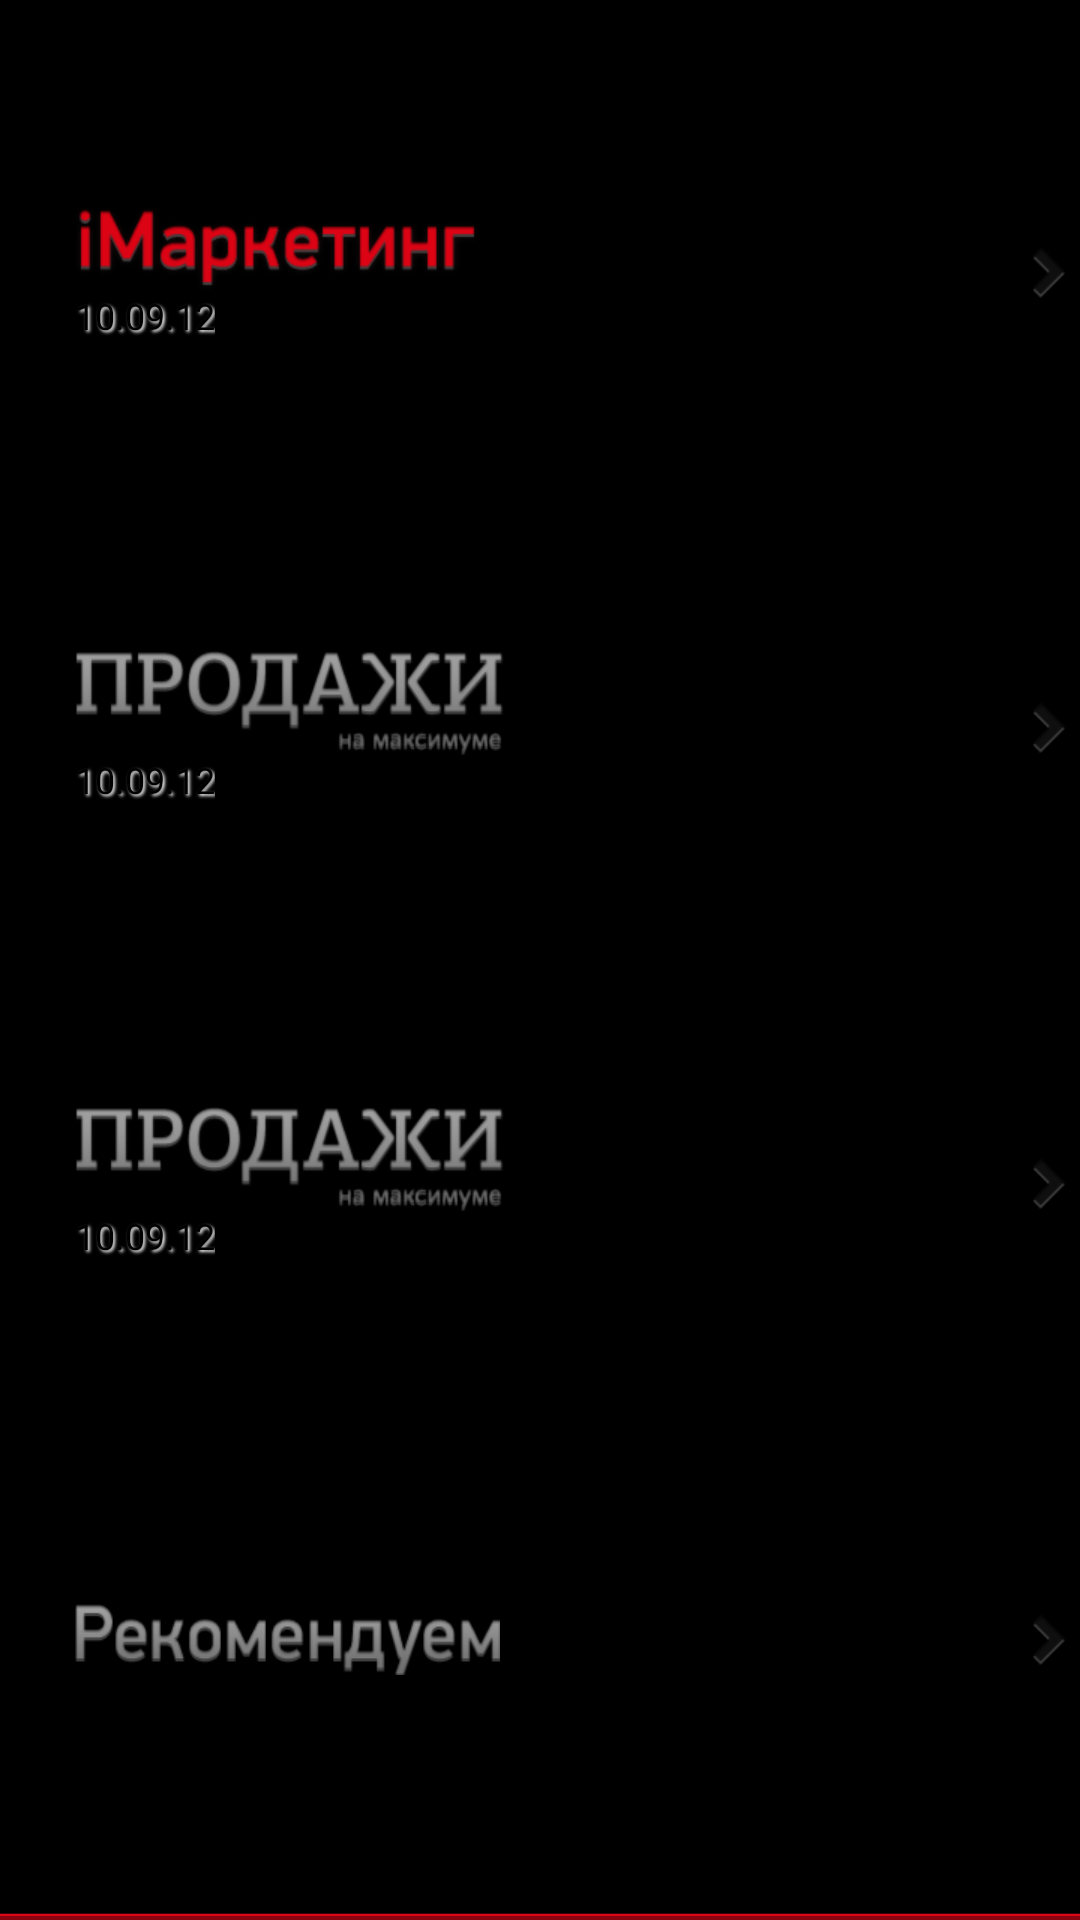

Where icons sit on this 1080px×1920px app screen, as [x1,y1,x2,y2]:
arrow: [1034,257,1064,297], [1034,712,1064,752], [1034,1168,1064,1208], [1034,1624,1064,1664]
